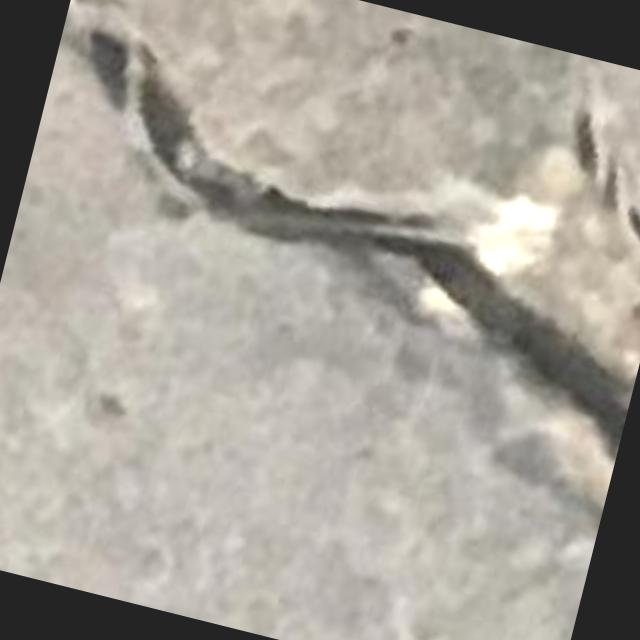crack: (64, 0, 632, 531)
